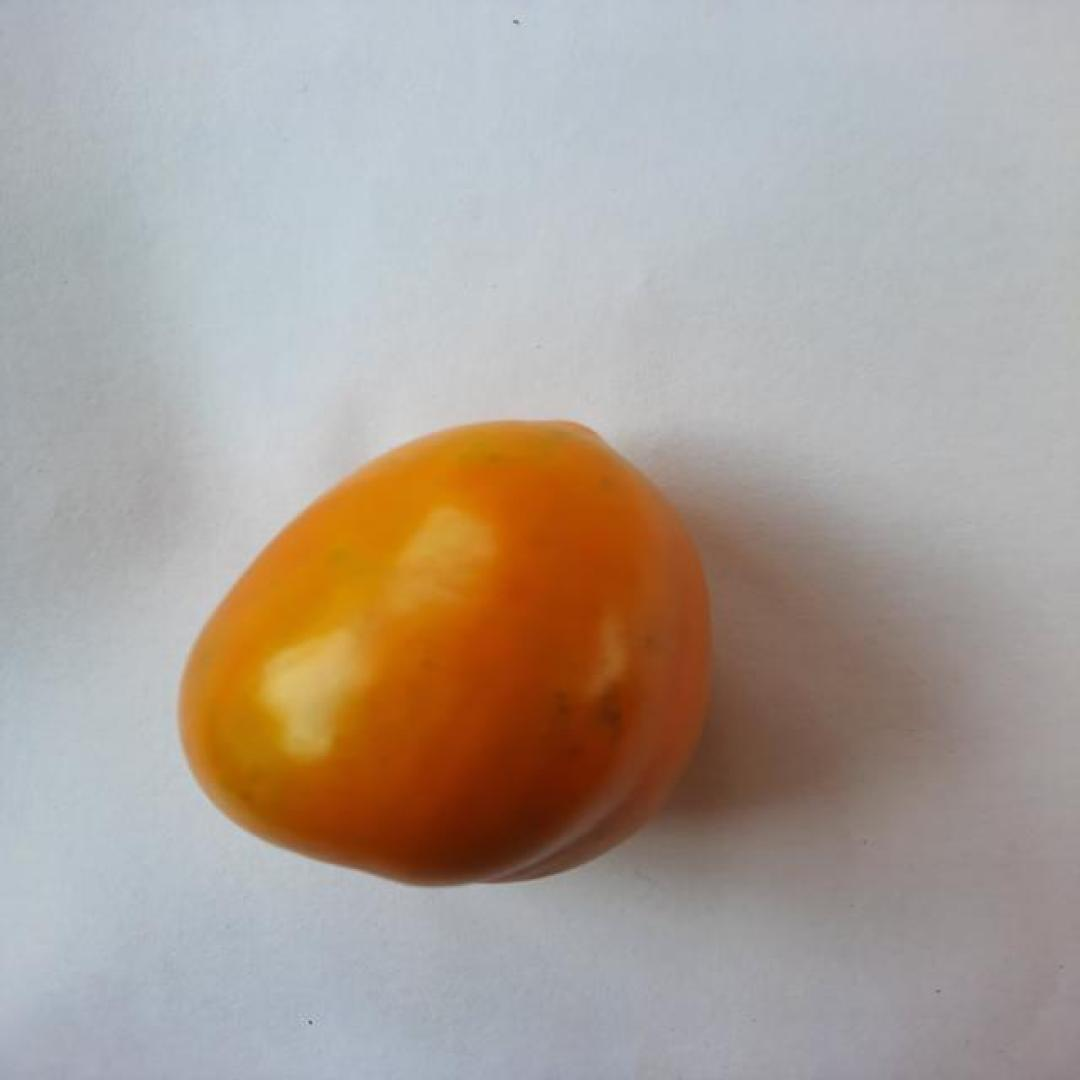setengah_matang: (174, 415, 717, 891)
